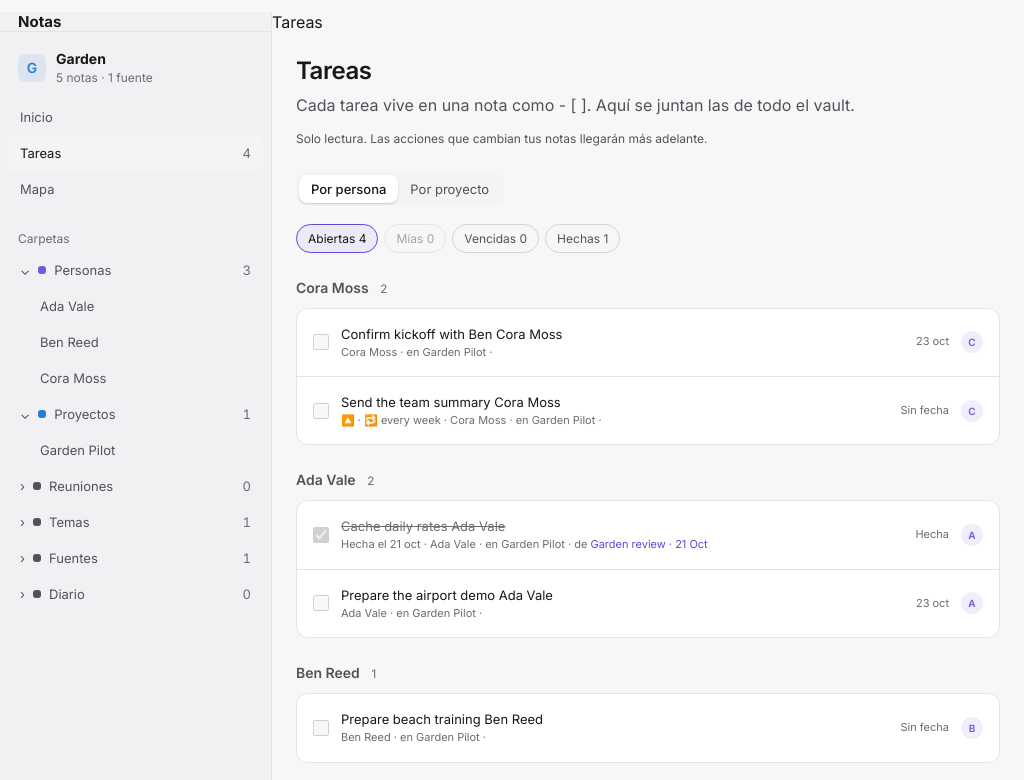
it: tasks with custom person and project types keep their owners and project grouping
Expected: the heading "Ada Vale 2" is shown, [296,472,374,488]
What coordinates should you click on to do the following:
click the radio button labelled "Por proyecto"
I would click on:
 (450, 189)
Its box is [398,175,501,203].
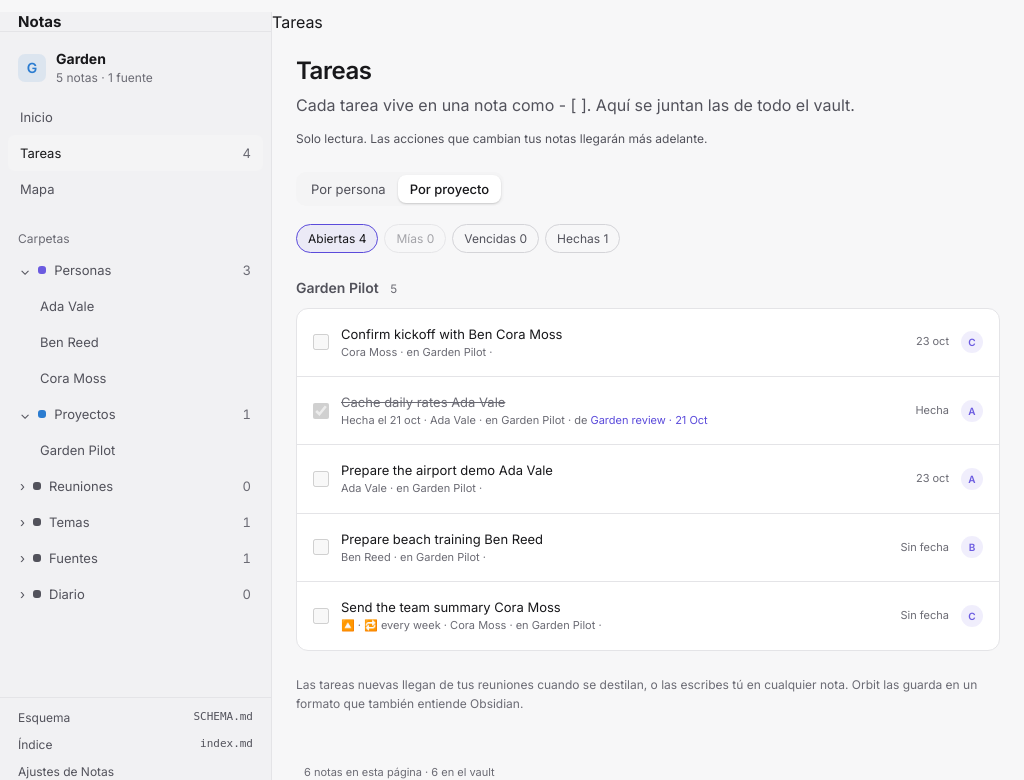
Now the heading "Garden Pilot 5" is shown, box [296,279,397,296]
